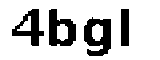4: (8, 3, 47, 50)
I: (117, 5, 144, 60)
b: (46, 3, 78, 52)
g: (81, 14, 114, 60)
